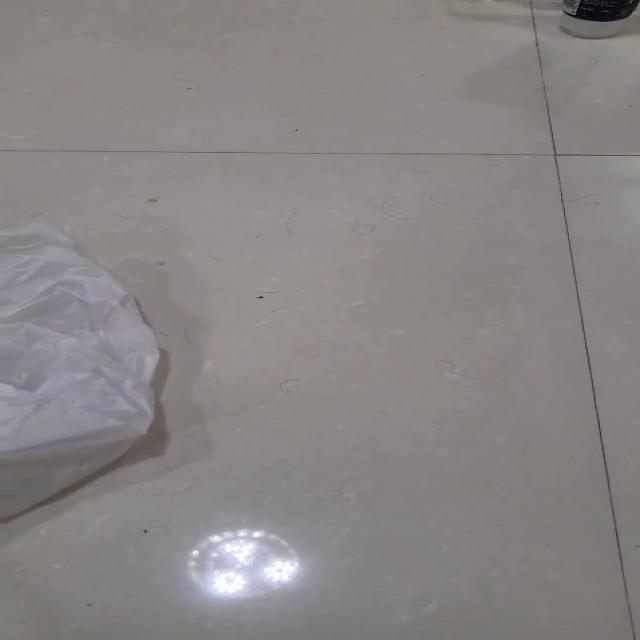plastic: (0, 211, 161, 522)
